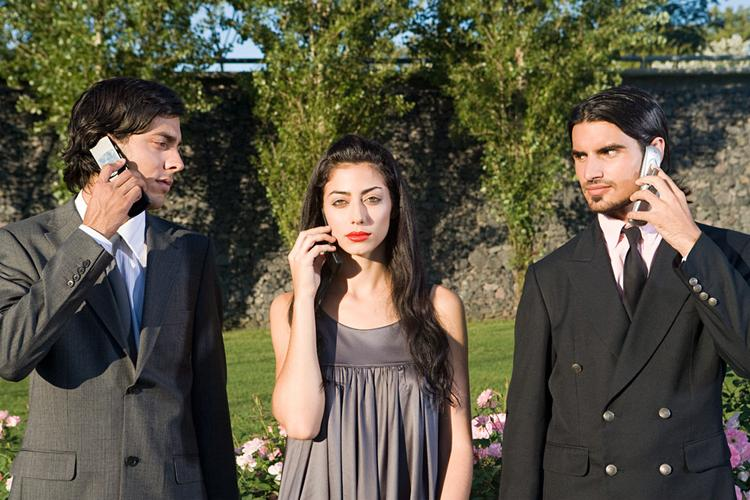calling: (84, 133, 150, 232), (627, 142, 692, 241), (285, 205, 345, 292)
